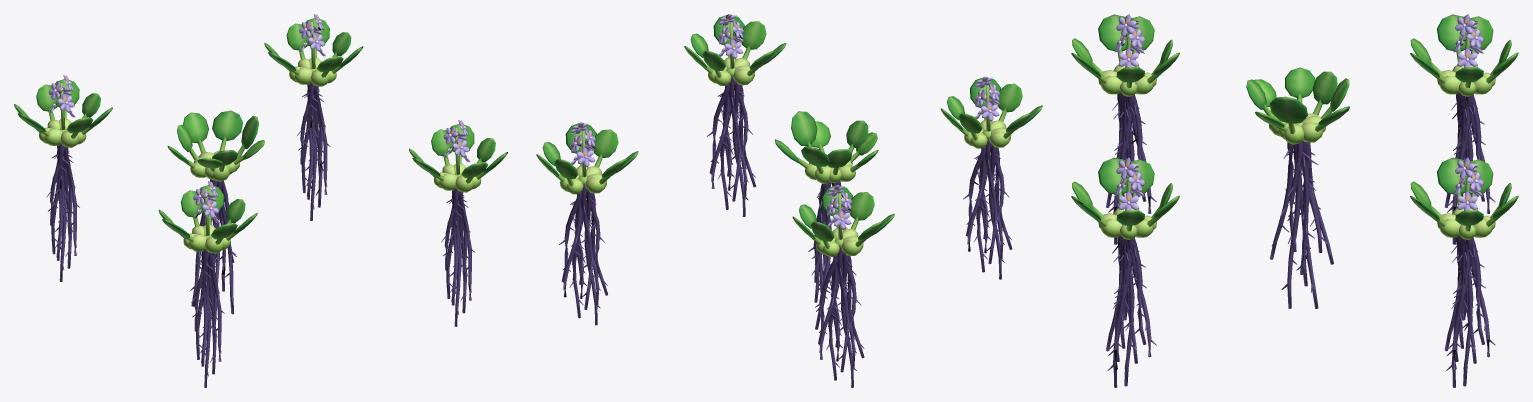
The model's file is water_hyacinth_tile_sparse.glb.
The picture shows the model from 3 angles, left to right: view 1: azimuth 30°, elevation 25°; view 2: azimuth 150°, elevation 25°; view 3: azimuth 270°, elevation 25°; orthographic projection. The views are drawn at different scales.
Visible parts, largest first — view 1: HyacinthTileSparse; view 2: HyacinthTileSparse; view 3: HyacinthTileSparse.
Boxes of the visible parts, <box> form: HyacinthTileSparse: <box>14,14,507,387</box>; HyacinthTileSparse: <box>536,14,1042,387</box>; HyacinthTileSparse: <box>1071,14,1518,387</box>.
Bounding box in the file's own units: 5.34 × 3.2 × 5.28.
Materials: 1 (1 with a texture image).
